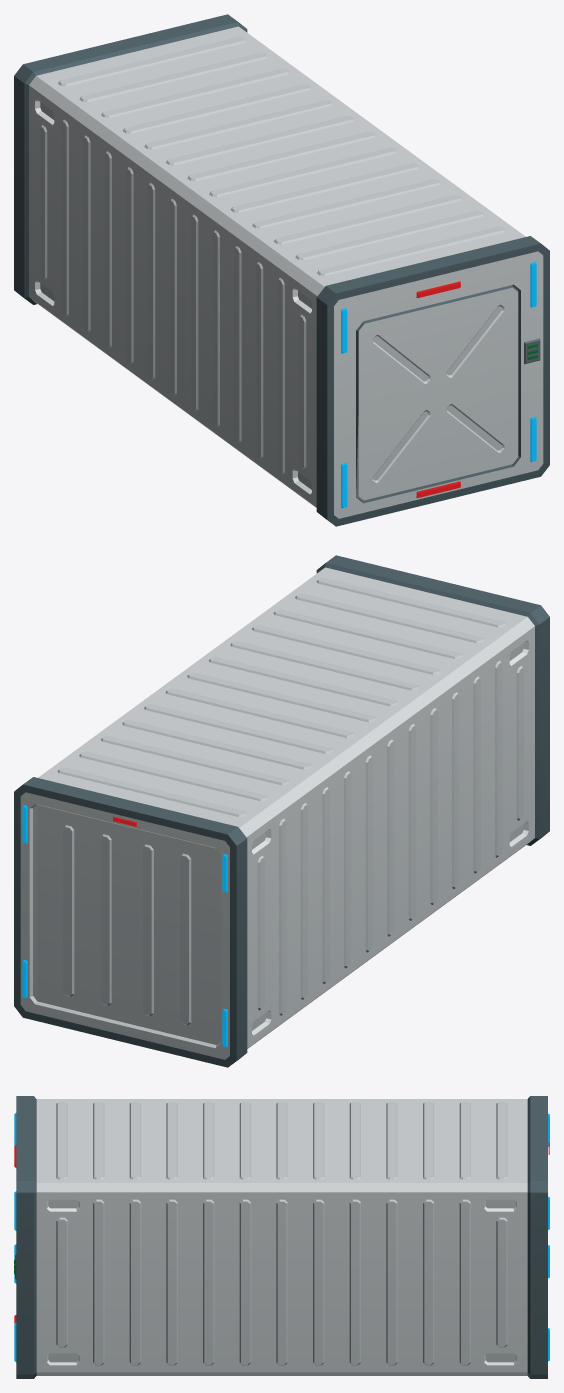
Rendered from Container_type_A_001.glb.
The picture shows the model from 3 angles, top to bottom: view 1: azimuth 30°, elevation 25°; view 2: azimuth 150°, elevation 25°; view 3: azimuth 270°, elevation 25°; orthographic projection. The views are drawn at different scales.
Parts seen in each view (by area): view 1: Container_type_A_001, Container_type_A_door_010; view 2: Container_type_A_001; view 3: Container_type_A_001.
Part boxes in pixels (x1,y1,x2,y2): Container_type_A_001: [14, 14, 549, 526]; Container_type_A_door_010: [356, 285, 518, 500]; Container_type_A_001: [14, 555, 549, 1067]; Container_type_A_001: [14, 1096, 549, 1378].
Size of the model in its own units: 2.46 by 2.46 by 6.05.
Materials: 2 (2 with a texture image).
